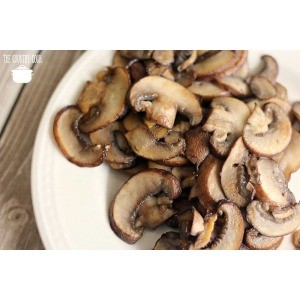mushroom_brain food: (84, 84, 291, 192)
